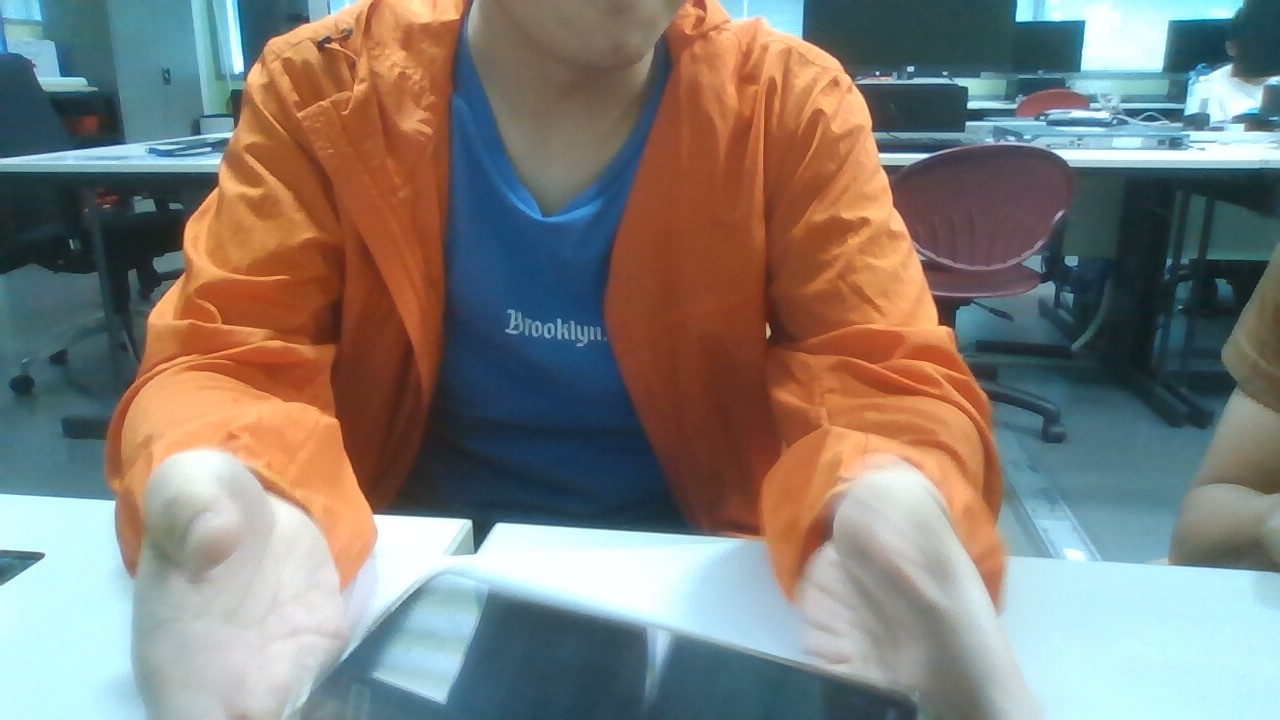phone: (282, 572, 922, 720)
